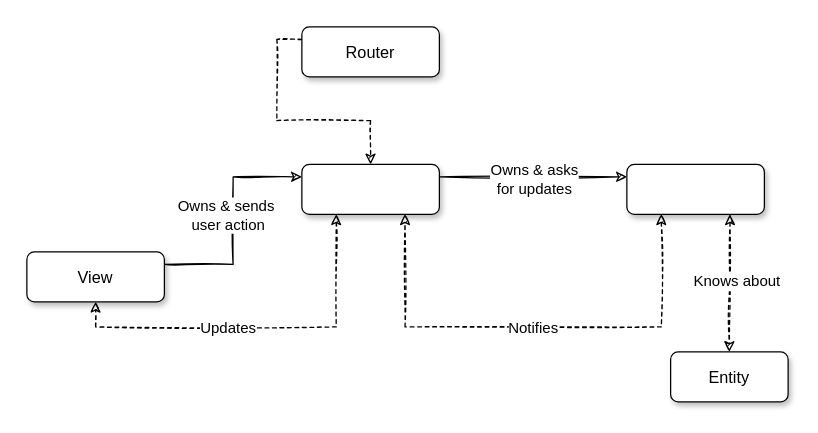
Some shapes in this 818 by 433 pixel diagram are drawn without their labels. The shapes that lost their labels are listed below. From the top down, each one's centre as x and y in pixels, then its label:
(371,190): Presenter
(696,190): Interactor
